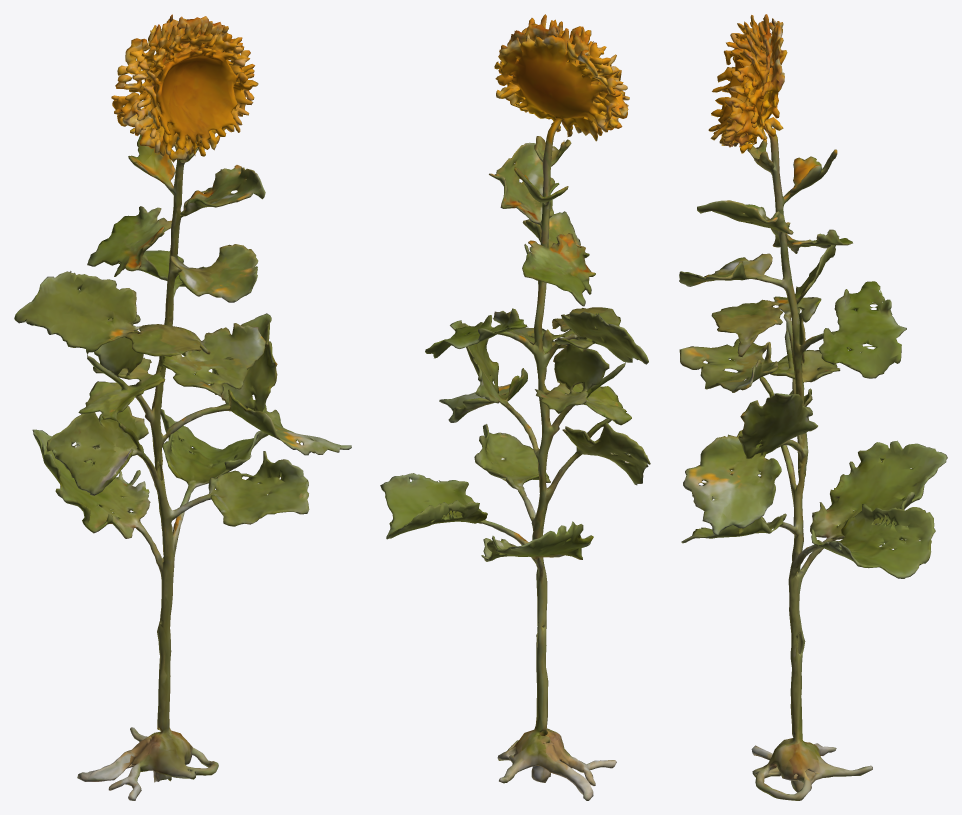
File: sunflower.glb
3 views of the same model, side by side, from view 1: azimuth 30°, elevation 25°; view 2: azimuth 150°, elevation 25°; view 3: azimuth 270°, elevation 25° (orthographic). The views are drawn at different scales.
Parts seen in each view (by area): view 1: Meshy_AI_Sunflower_Essence_0122125001_texture; view 2: Meshy_AI_Sunflower_Essence_0122125001_texture; view 3: Meshy_AI_Sunflower_Essence_0122125001_texture.
Boxes of the visible parts, x1,y1,x2,y2 form: Meshy_AI_Sunflower_Essence_0122125001_texture: [14, 14, 351, 800]; Meshy_AI_Sunflower_Essence_0122125001_texture: [380, 14, 650, 800]; Meshy_AI_Sunflower_Essence_0122125001_texture: [679, 14, 947, 800].
Bounding box in the file's own units: 1.27 × 3.4 × 1.08.
1 material, 1 textured.
